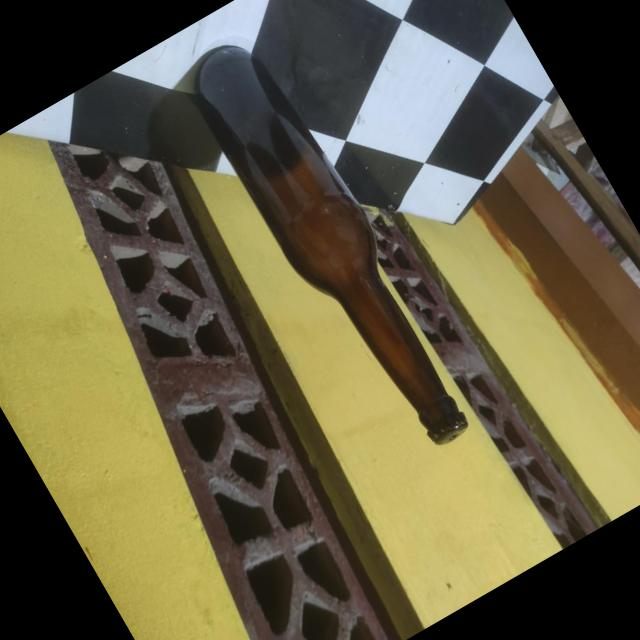BotolKaca: (175, 26, 488, 470)
